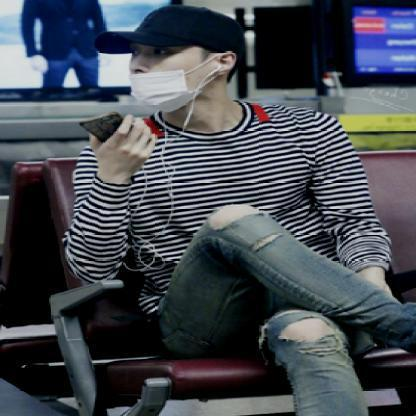mask_weared_incorrect: (129, 44, 219, 112)
